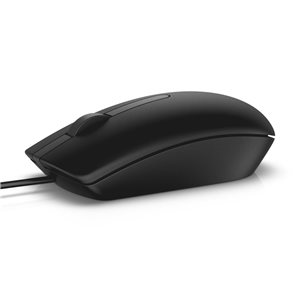dell-mouse-ms116: (1, 89, 277, 204)
